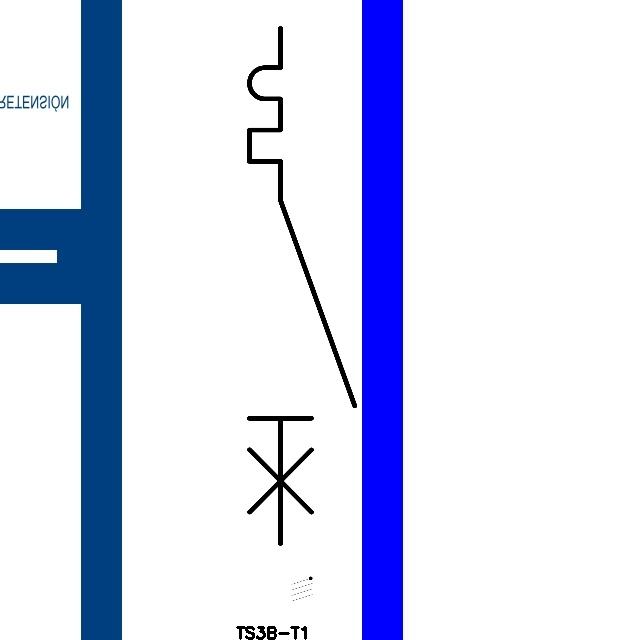interruptor_termomagnetico: (236, 15, 368, 556)
